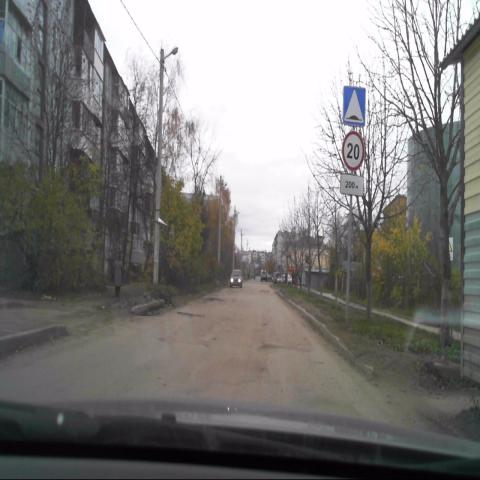8_1_1: (341, 176, 364, 197)
